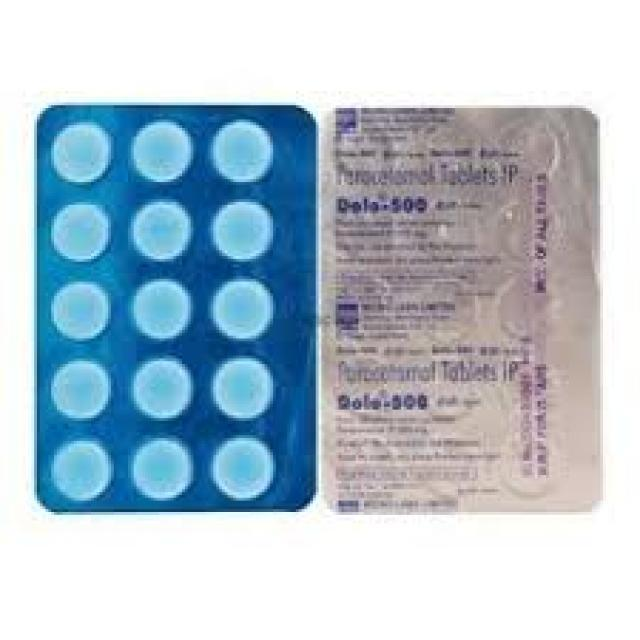authentic: (23, 98, 324, 518), (314, 98, 614, 515)
